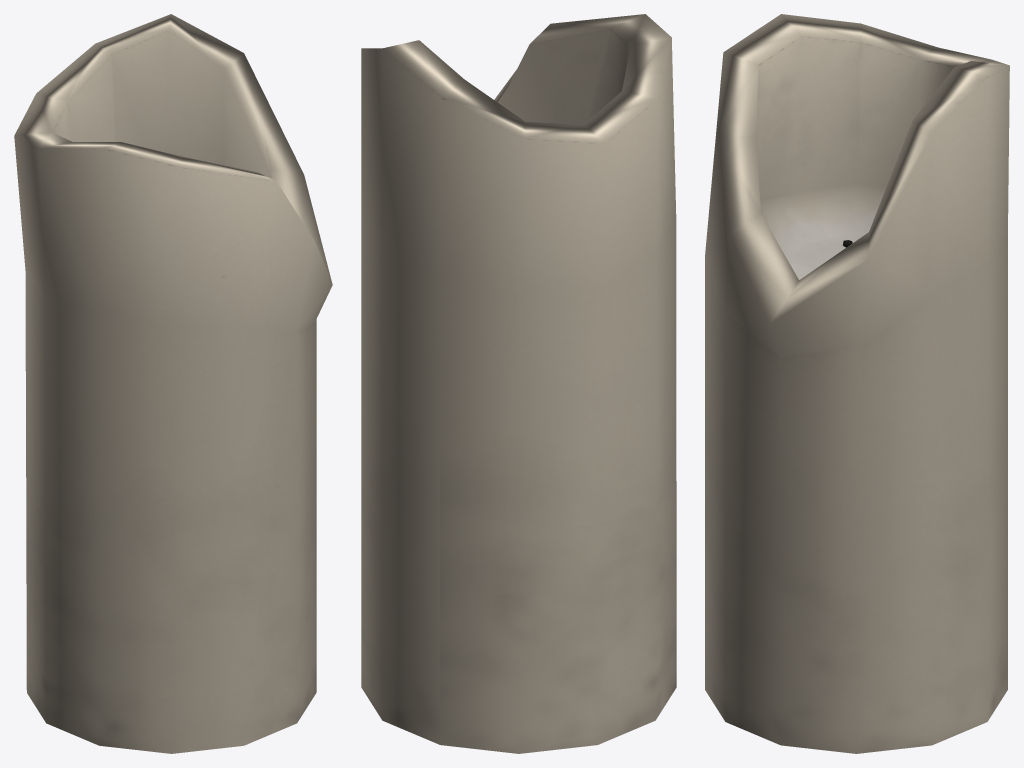
File: candleBig.fbx
3 renders of one model, left to right at view 1: azimuth 30°, elevation 25°; view 2: azimuth 150°, elevation 25°; view 3: azimuth 270°, elevation 25°, orthographic. The views are drawn at different scales.
Parts seen in each view (by area): view 1: candleBig; view 2: candleBig; view 3: candleBig.
Part boxes in pixels (x1,y1,x2,y2): candleBig: (14,14,332,753); candleBig: (361,14,676,753); candleBig: (705,14,1009,753).
Bounding box in the file's own units: 0.1188 × 0.261 × 0.1117.
